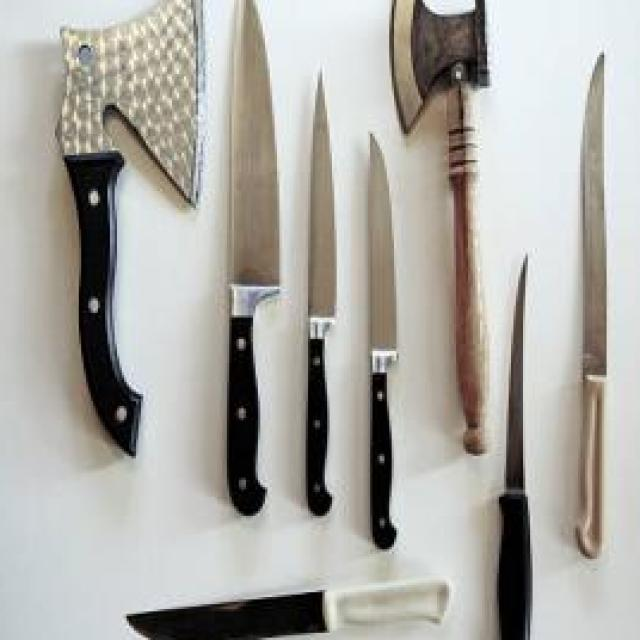knife: (33, 0, 208, 466), (334, 0, 504, 468), (210, 0, 284, 535), (560, 43, 626, 573), (343, 112, 408, 554), (296, 60, 346, 542), (487, 255, 549, 640), (122, 570, 459, 640)
